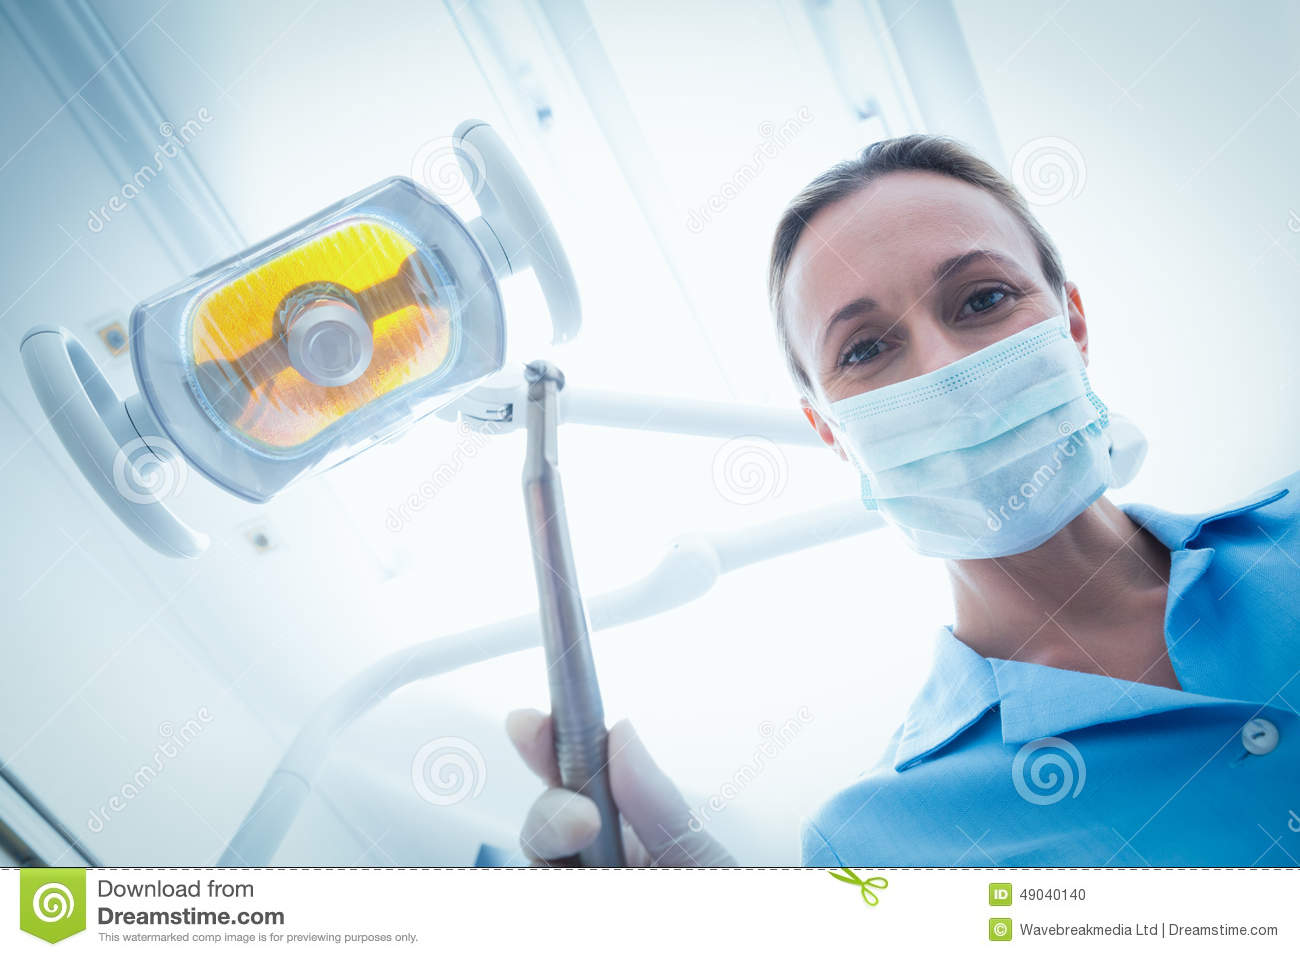mask: (810, 314, 1116, 594)
